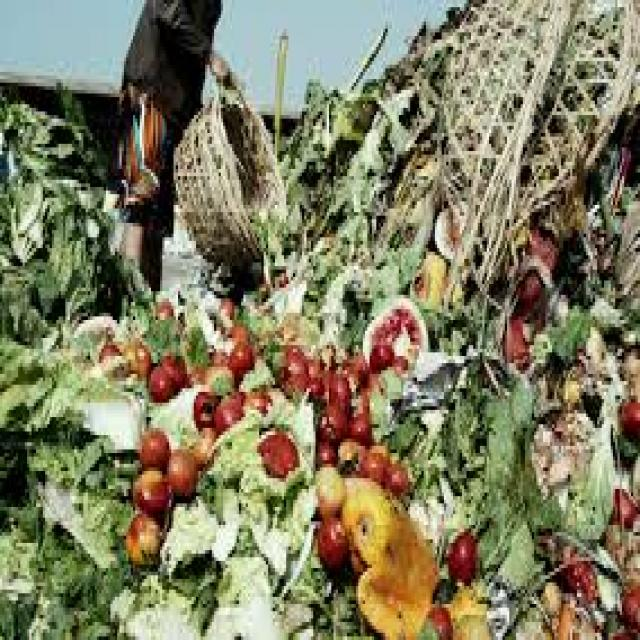food_waste: (31, 271, 617, 624)
